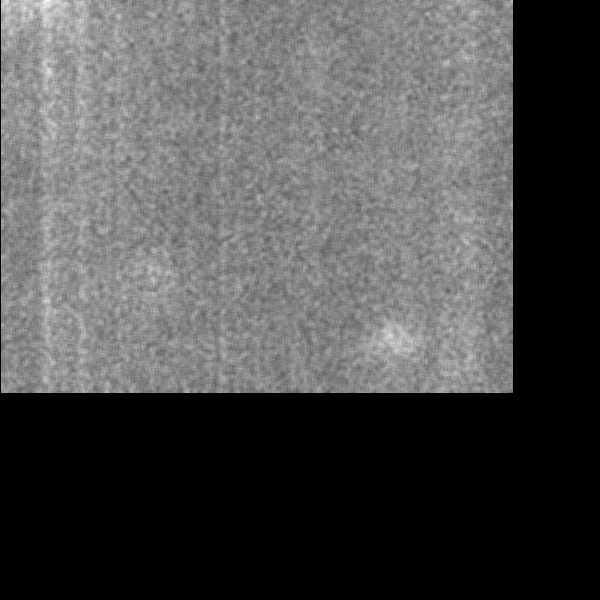spark: (132, 256, 153, 283)
